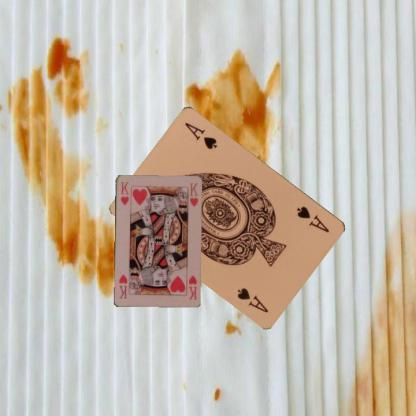As: (294, 203, 331, 234)
Kh: (186, 271, 198, 300), (118, 179, 130, 206)
